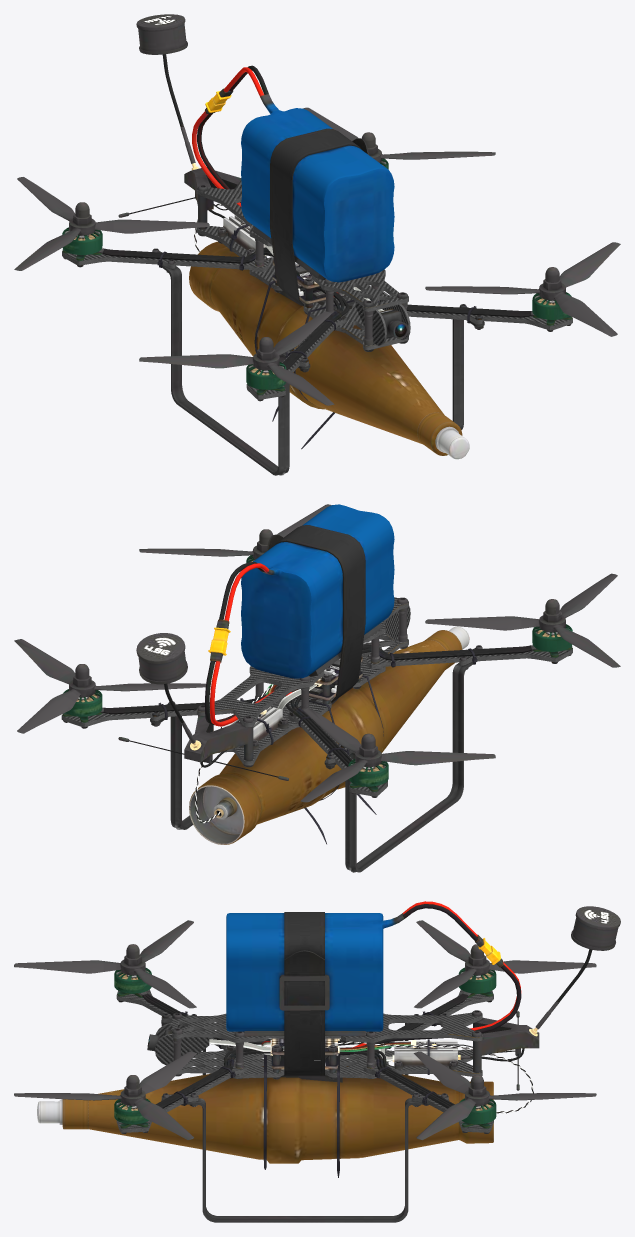
The model's file is fpv_drone.glb.
The picture shows the model from 3 angles, top to bottom: view 1: azimuth 30°, elevation 25°; view 2: azimuth 150°, elevation 25°; view 3: azimuth 270°, elevation 25°; orthographic projection. The views are drawn at different scales.
Visible parts, largest first — view 1: Object_4, Object_5, Object_6, Object_7; view 2: Object_4, Object_5, Object_6, Object_7, Object_3; view 3: Object_4, Object_6, Object_5, Object_7, Object_3.
Part boxes in pixels (box(x1,y1,x2,y2)): Object_4: box(189, 65, 469, 459); Object_5: box(14, 177, 484, 475); Object_6: box(118, 14, 620, 336); Object_7: box(62, 247, 572, 401); Object_4: box(189, 504, 469, 844); Object_5: box(150, 573, 620, 872); Object_6: box(14, 504, 331, 780); Object_7: box(61, 644, 572, 797); Object_3: box(62, 558, 572, 791); Object_4: box(37, 901, 533, 1177); Object_6: box(14, 906, 620, 1140); Object_5: box(14, 920, 596, 1222); Object_7: box(116, 989, 493, 1133); Object_3: box(117, 971, 492, 1128).
Size of what is drawn, in the model's own units: 0.4763 by 0.2915 by 0.5554.
Materials: 1 (1 with a texture image).
